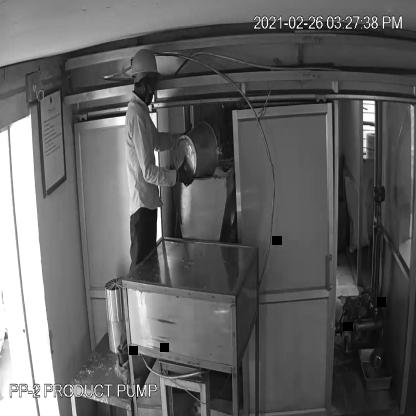helmet: (127, 45, 164, 85)
